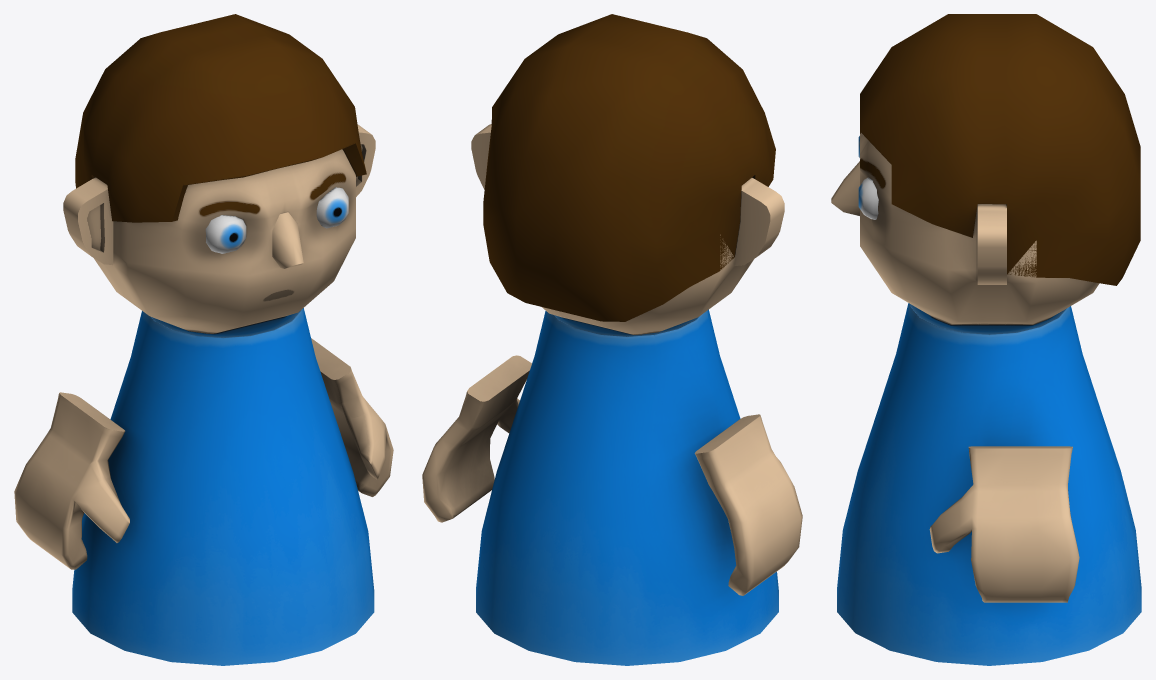
Rendered from boi.fbx.
The picture shows the model from 3 angles, left to right: view 1: azimuth 30°, elevation 25°; view 2: azimuth 150°, elevation 25°; view 3: azimuth 270°, elevation 25°; orthographic projection.
Visible parts, largest first — view 1: Cylinder001, Object001, Box001, Box003, Box002; view 2: Cylinder001, Object001, Box003, Box001; view 3: Cylinder001, Object001, Box001, Box003, Box002.
Boxes of the visible parts, bbox=[...] form: Cylinder001: bbox=[72, 308, 374, 665]; Object001: bbox=[75, 14, 366, 222]; Box001: bbox=[63, 124, 375, 333]; Box003: bbox=[14, 338, 393, 569]; Box002: bbox=[205, 187, 348, 253]; Cylinder001: bbox=[476, 309, 778, 665]; Object001: bbox=[483, 14, 775, 321]; Box003: bbox=[422, 355, 802, 595]; Box001: bbox=[471, 124, 784, 334]; Cylinder001: bbox=[837, 303, 1141, 665]; Object001: bbox=[860, 14, 1140, 285]; Box001: bbox=[831, 132, 1099, 324]; Box003: bbox=[929, 446, 1079, 602]; Box002: bbox=[858, 136, 878, 219].
Bounding box in the file's own units: 19.65 × 32.03 × 15.91.
